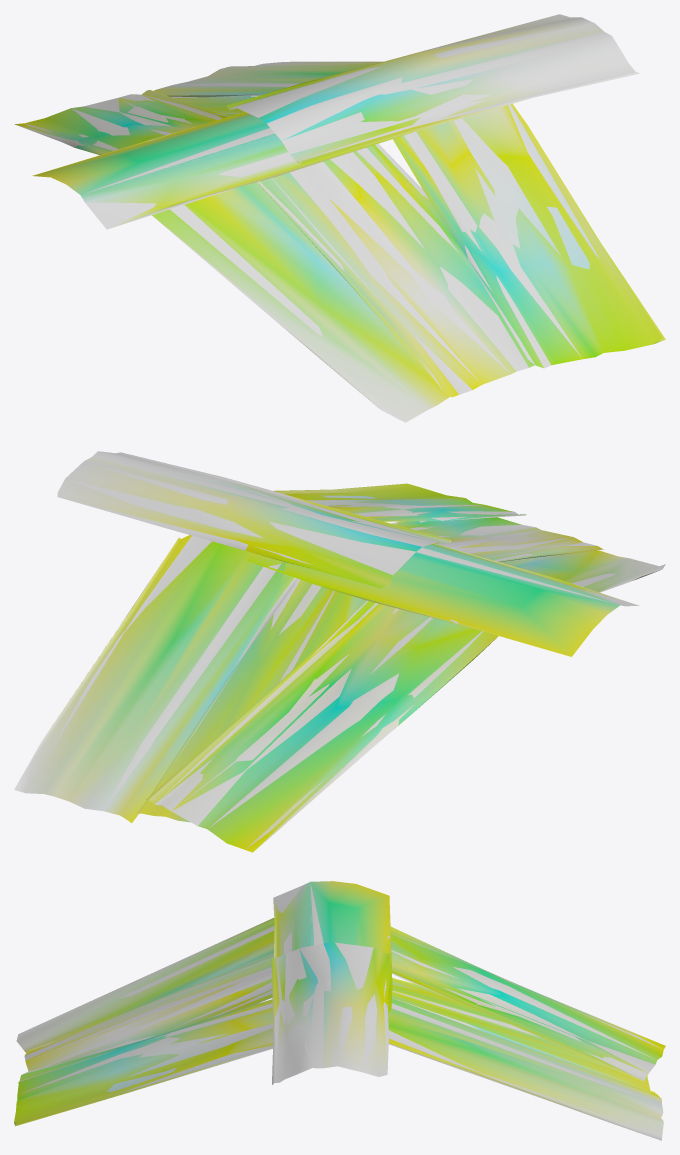
File: SM_MillTop_Roof_NN_01a.FBX
3 renders of one model, top to bottom at view 1: azimuth 30°, elevation 25°; view 2: azimuth 150°, elevation 25°; view 3: azimuth 270°, elevation 25°, orthographic. The views are drawn at different scales.
Parts seen in each view (by area): view 1: SM_MillTop_Roof_NN_01a_LOD0; view 2: SM_MillTop_Roof_NN_01a_LOD0; view 3: SM_MillTop_Roof_NN_01a_LOD0.
Part boxes in pixels (bbox=[...]): SM_MillTop_Roof_NN_01a_LOD0: bbox=[14, 14, 665, 422]; SM_MillTop_Roof_NN_01a_LOD0: bbox=[14, 451, 665, 852]; SM_MillTop_Roof_NN_01a_LOD0: bbox=[14, 881, 665, 1140].
Size of what is drawn, in the model's own units: 497 by 650 by 144.
